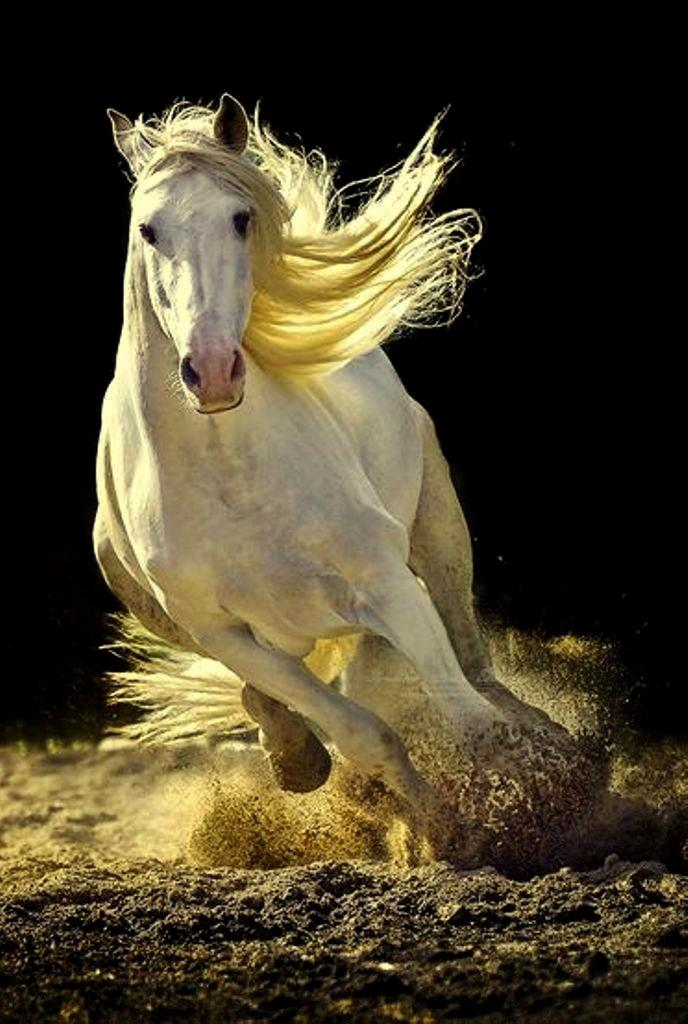horse: (90, 91, 614, 866)
